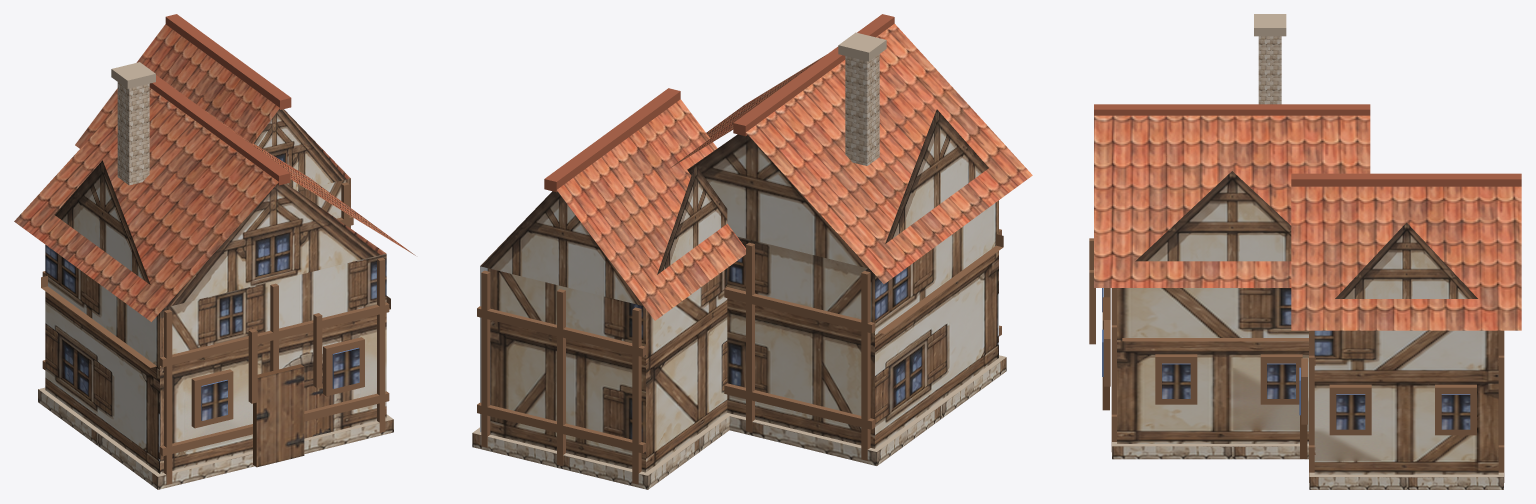
The model's file is L_shaped.glb.
3 renders of one model, left to right at view 1: azimuth 30°, elevation 25°; view 2: azimuth 150°, elevation 25°; view 3: azimuth 270°, elevation 25°, orthographic. The views are drawn at different scales.
Visible parts, largest first — view 1: roof_front_slope, walls_front, walls_left, gable_front, stone_foundation, roof_ridge_cap, front_door, gable_left, timber_front_posts, chimney, window_frames_front, timber_front_upper (+6 smaller); view 2: roof_front_slope, walls_back, walls_left, gable_back, stone_foundation, gable_left, timber_back_posts, roof_ridge_cap, timber_back_upper, timber_back_horizontal, chimney, roof_back_slope (+2 smaller); view 3: roof_back_slope, walls_right, gable_right, roof_ridge_cap, stone_foundation, window_frames_side, window_glass_side, chimney, timber_front_posts, window_frames_front, timber_back_posts, front_door (+3 smaller).
Part boxes in pixels (x1,y1,x2,y2): roof_front_slope: (14,24,279,321); walls_front: (160,178,386,473); walls_left: (45,245,159,473); gable_front: (165,109,385,307); stone_foundation: (38,387,393,489); roof_ridge_cap: (149,14,291,185); front_door: (253,364,304,467); gable_left: (54,160,150,284); timber_front_posts: (164,182,385,484); chimney: (117,82,149,185); window_frames_front: (191,337,364,428); timber_front_upper: (159,216,389,367); roof_front_slope: (557,23,1032,320); walls_back: (480,236,874,472); walls_left: (646,200,998,471); gable_back: (480,134,868,305); stone_foundation: (472,355,1006,489); gable_left: (657,109,988,274); timber_back_posts: (481,242,870,484); roof_ridge_cap: (544,14,894,192); timber_back_upper: (477,287,875,356); timber_back_horizontal: (477,383,875,453); chimney: (845,54,879,165); roof_back_slope: (669,54,826,168); roof_back_slope: (1094,115,1521,330); walls_right: (1117,288,1498,474); gable_right: (1135,171,1477,298); roof_ridge_cap: (1094,104,1521,186); stone_foundation: (1112,442,1503,489); window_frames_side: (1155,354,1476,435); window_glass_side: (1162,363,1470,429); chimney: (1258,36,1281,104); timber_front_posts: (1111,288,1314,482); window_frames_front: (1104,288,1307,424); timber_back_posts: (1498,330,1504,482); front_door: (1102,297,1307,458).
Size of the model in its own units: 5.8 by 5.86 by 7.
1 material, 1 textured.
